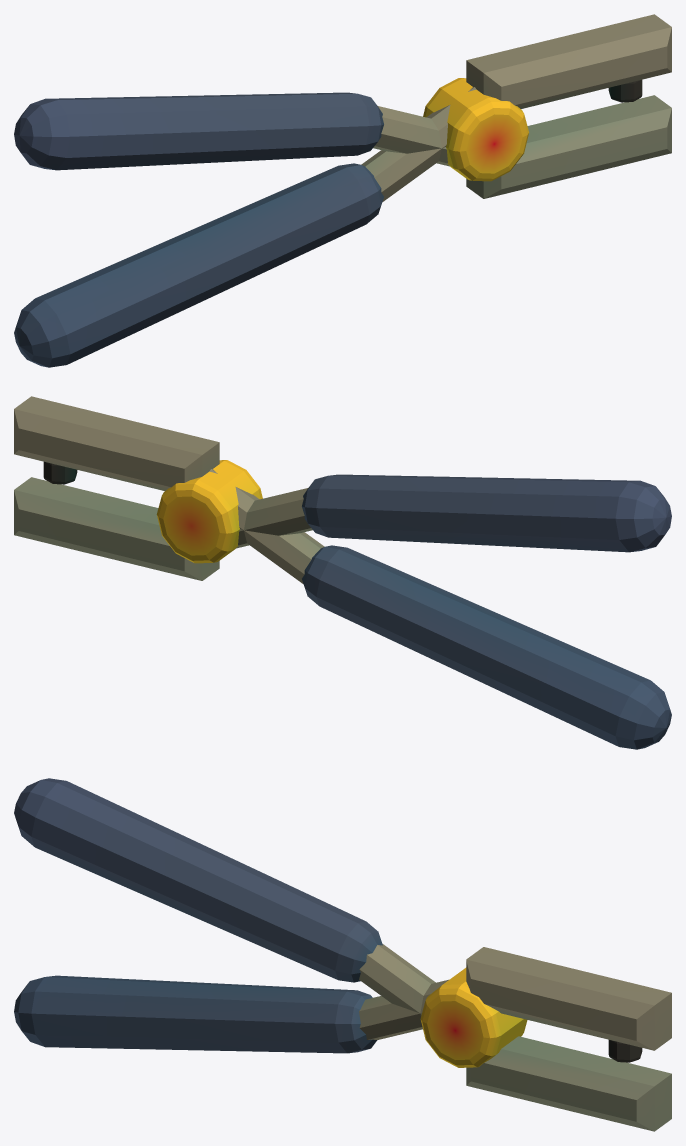
The model's file is Prop_TicketPunch.glb.
3 renders of one model, top to bottom at view 1: azimuth 30°, elevation 25°; view 2: azimuth 150°, elevation 25°; view 3: azimuth 330°, elevation 25°, orthographic.
Visible parts, largest first — view 1: Punch_Lower, Punch_Upper, Prop_TicketPunch; view 2: Punch_Lower, Punch_Upper, Prop_TicketPunch; view 3: Punch_Upper, Punch_Lower, Prop_TicketPunch.
Boxes of the visible parts, bbox=[...] form: Punch_Lower: bbox=[14, 14, 671, 367]; Punch_Upper: bbox=[14, 92, 671, 198]; Prop_TicketPunch: bbox=[423, 78, 642, 181]; Punch_Lower: bbox=[14, 396, 671, 749]; Punch_Upper: bbox=[14, 474, 671, 580]; Prop_TicketPunch: bbox=[43, 460, 262, 563]; Punch_Upper: bbox=[14, 778, 671, 1131]; Punch_Lower: bbox=[14, 947, 671, 1053]; Prop_TicketPunch: bbox=[420, 967, 642, 1067].
Bounding box in the file's own units: 0.3417 × 0.1333 × 0.036.
